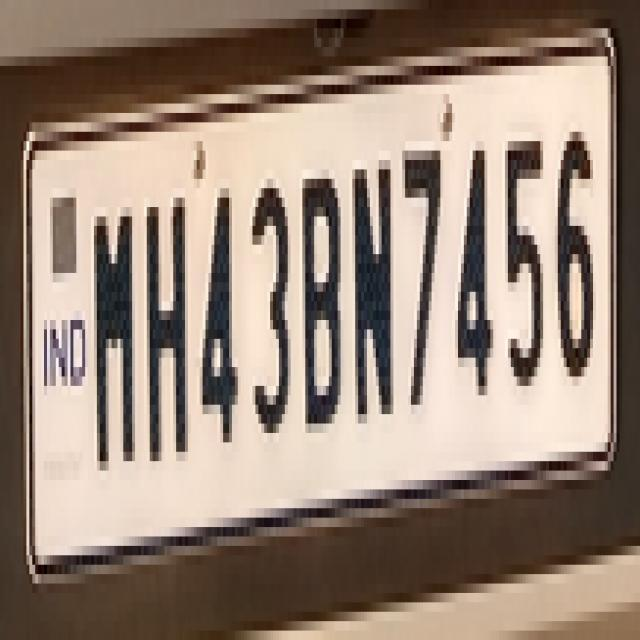3: (241, 186, 295, 444)
4: (450, 138, 500, 416), (200, 182, 244, 454)
5: (500, 127, 552, 397)
6: (556, 125, 604, 407)
7: (402, 128, 446, 434)
B: (298, 166, 349, 439)
H: (142, 194, 196, 478)
M: (83, 202, 142, 476)
N: (348, 142, 396, 432)
